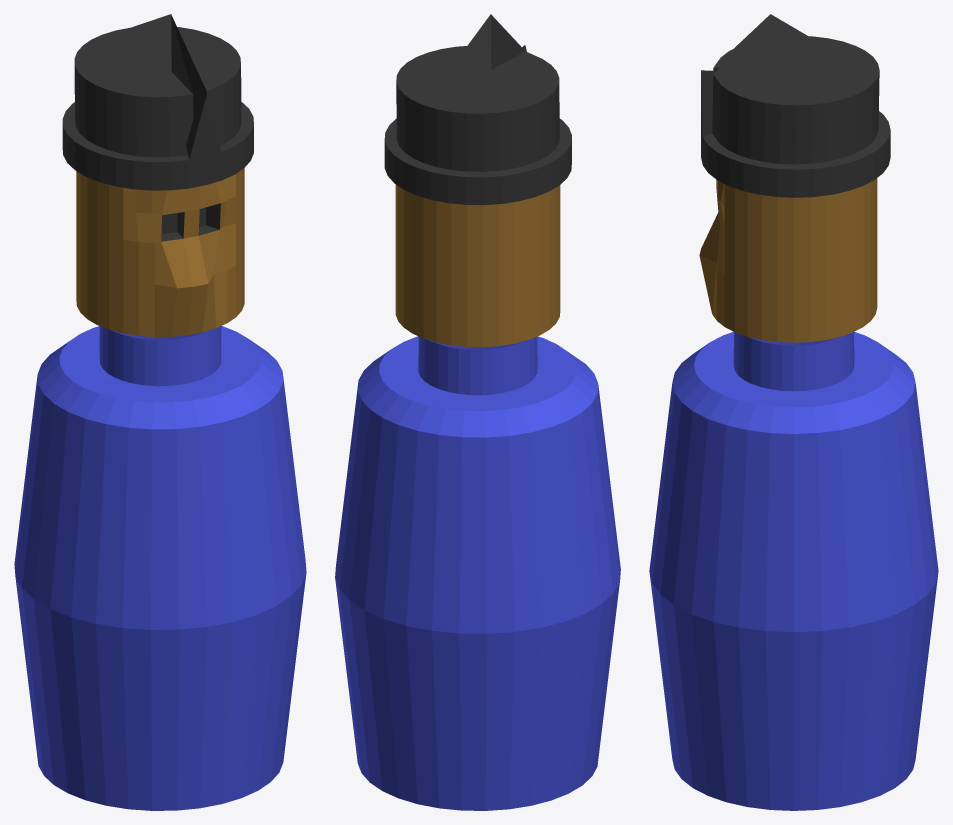
The model's file is COP.fbx.
3 views of the same model, side by side, from view 1: azimuth 30°, elevation 25°; view 2: azimuth 150°, elevation 25°; view 3: azimuth 270°, elevation 25° (orthographic). The views are drawn at different scales.
Visible parts, largest first — view 1: Cylinder, Cylinder.001; view 2: Cylinder, Cylinder.001; view 3: Cylinder, Cylinder.001.
Boxes of the visible parts, x1,y1,x2,y2 form: Cylinder: (14,168,306,810); Cylinder.001: (62,14,253,190); Cylinder: (335,184,620,810); Cylinder.001: (384,14,571,205); Cylinder: (649,178,938,810); Cylinder.001: (701,14,890,197).
Bounding box in the file's own units: 243 × 691 × 243.
